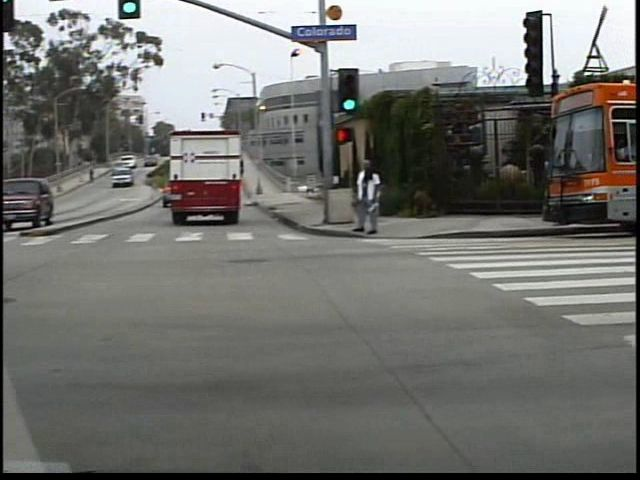person: (359, 156, 389, 238)
